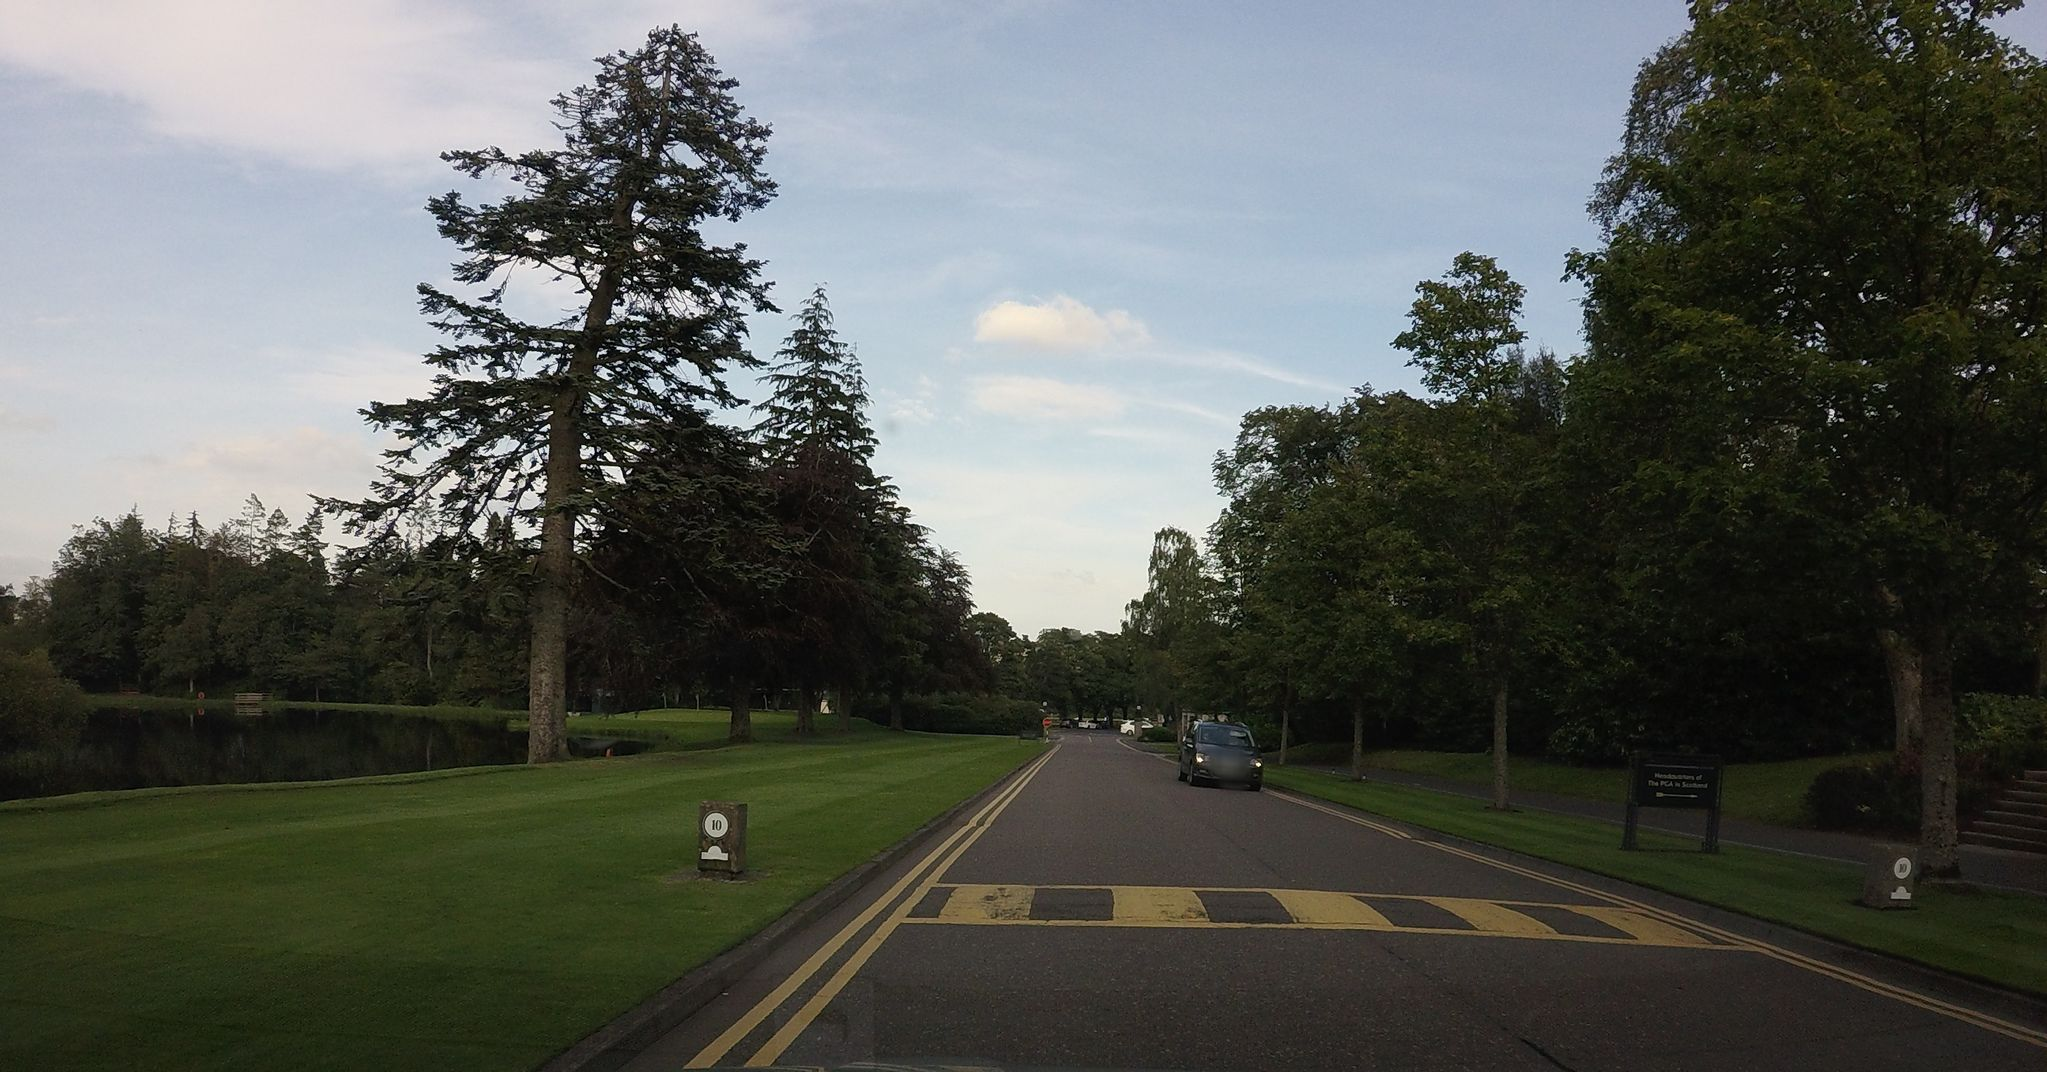car: (1175, 717, 1264, 790), (1120, 720, 1153, 735), (1078, 719, 1098, 730)
